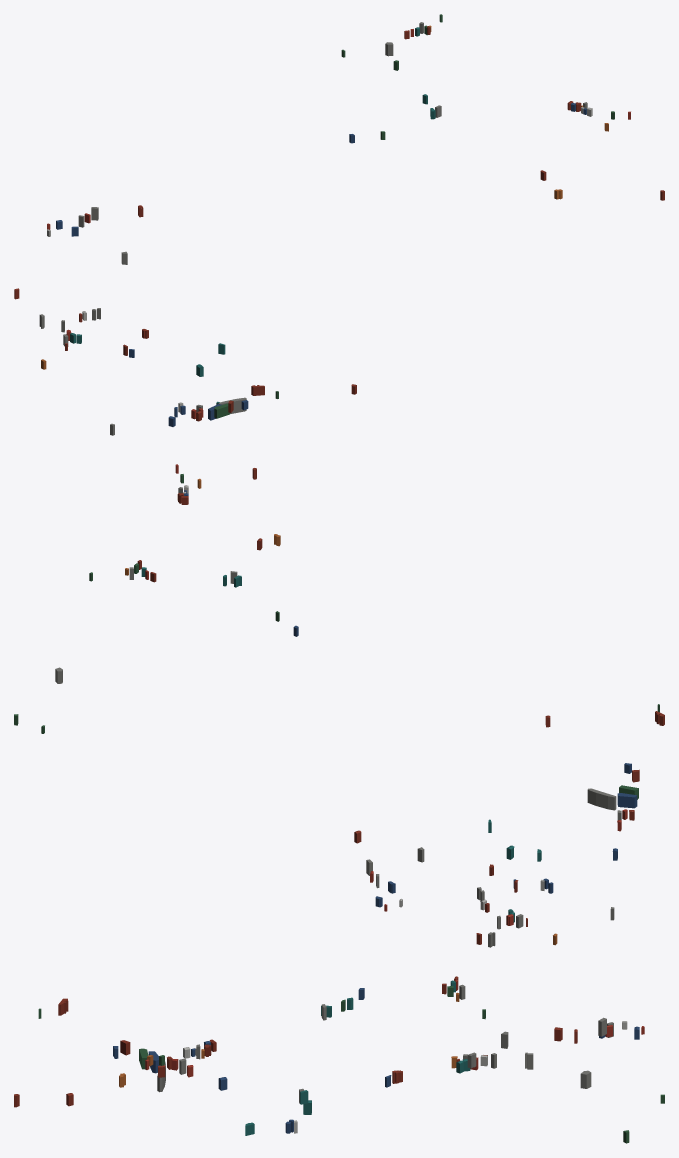
The model's file is near-15-27367-14859.0d0ce555.glb.
3 views of the same model, one above another, from view 1: azimuth 30°, elevation 25°; view 2: azimuth 150°, elevation 25°; view 3: azimuth 270°, elevation 25° (orthographic). The views are drawn at different scales.
Bounding box in the file's own units: 1126 × 635 × 1073.
